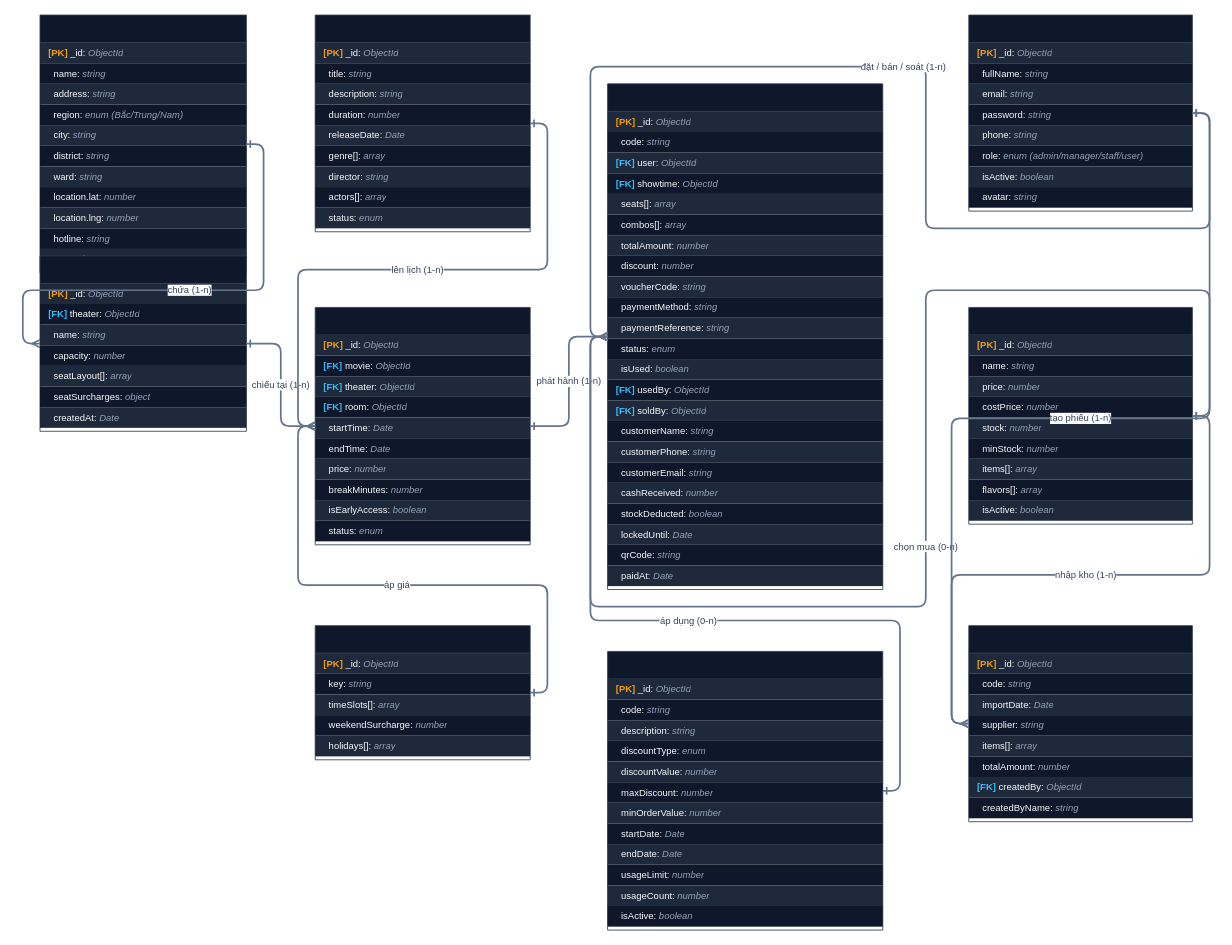
This 1232x945 diagram has some shape labels left out. The shapes that lost their labels are listed below. From the top down, each one's box as (x1, y1, x2, y2) in pixels, then its label:
(314, 14, 530, 232): MOVIE (Phim Chiếu)
(968, 14, 1192, 211): USER (Người Dùng & Nhân Viên)
(39, 14, 246, 273): THEATER (Cụm Rạp)
(39, 255, 246, 431): ROOM (Phòng Chiếu)
(607, 83, 883, 590): TICKET (Vé Đã Đặt / Giữ Chỗ)
(314, 307, 530, 545): SHOWTIME (Suất Chiếu)
(968, 307, 1192, 524): COMBO (Bắp Nước & Kho)
(314, 625, 530, 760): PRICING_RULE (Giá Động)
(968, 625, 1192, 822): IMPORT_RECEIPT (Phiếu Nhập)
(607, 651, 883, 930): VOUCHER (Khuyến Mãi)
